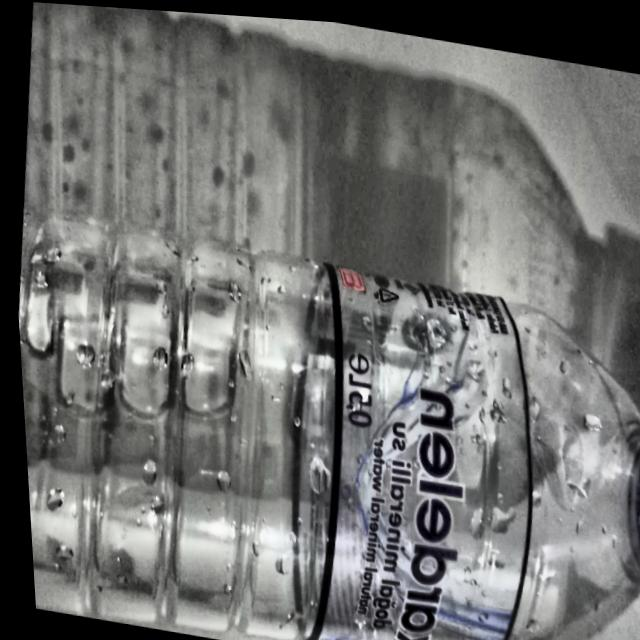plastic: (14, 209, 640, 640)
